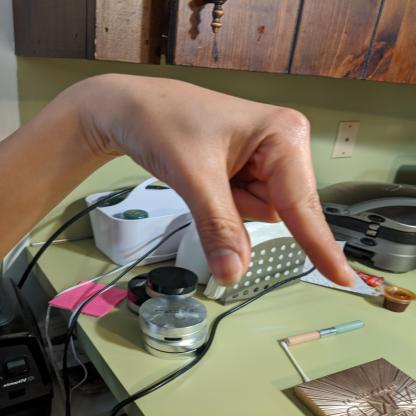Q: (115, 66, 364, 292)
